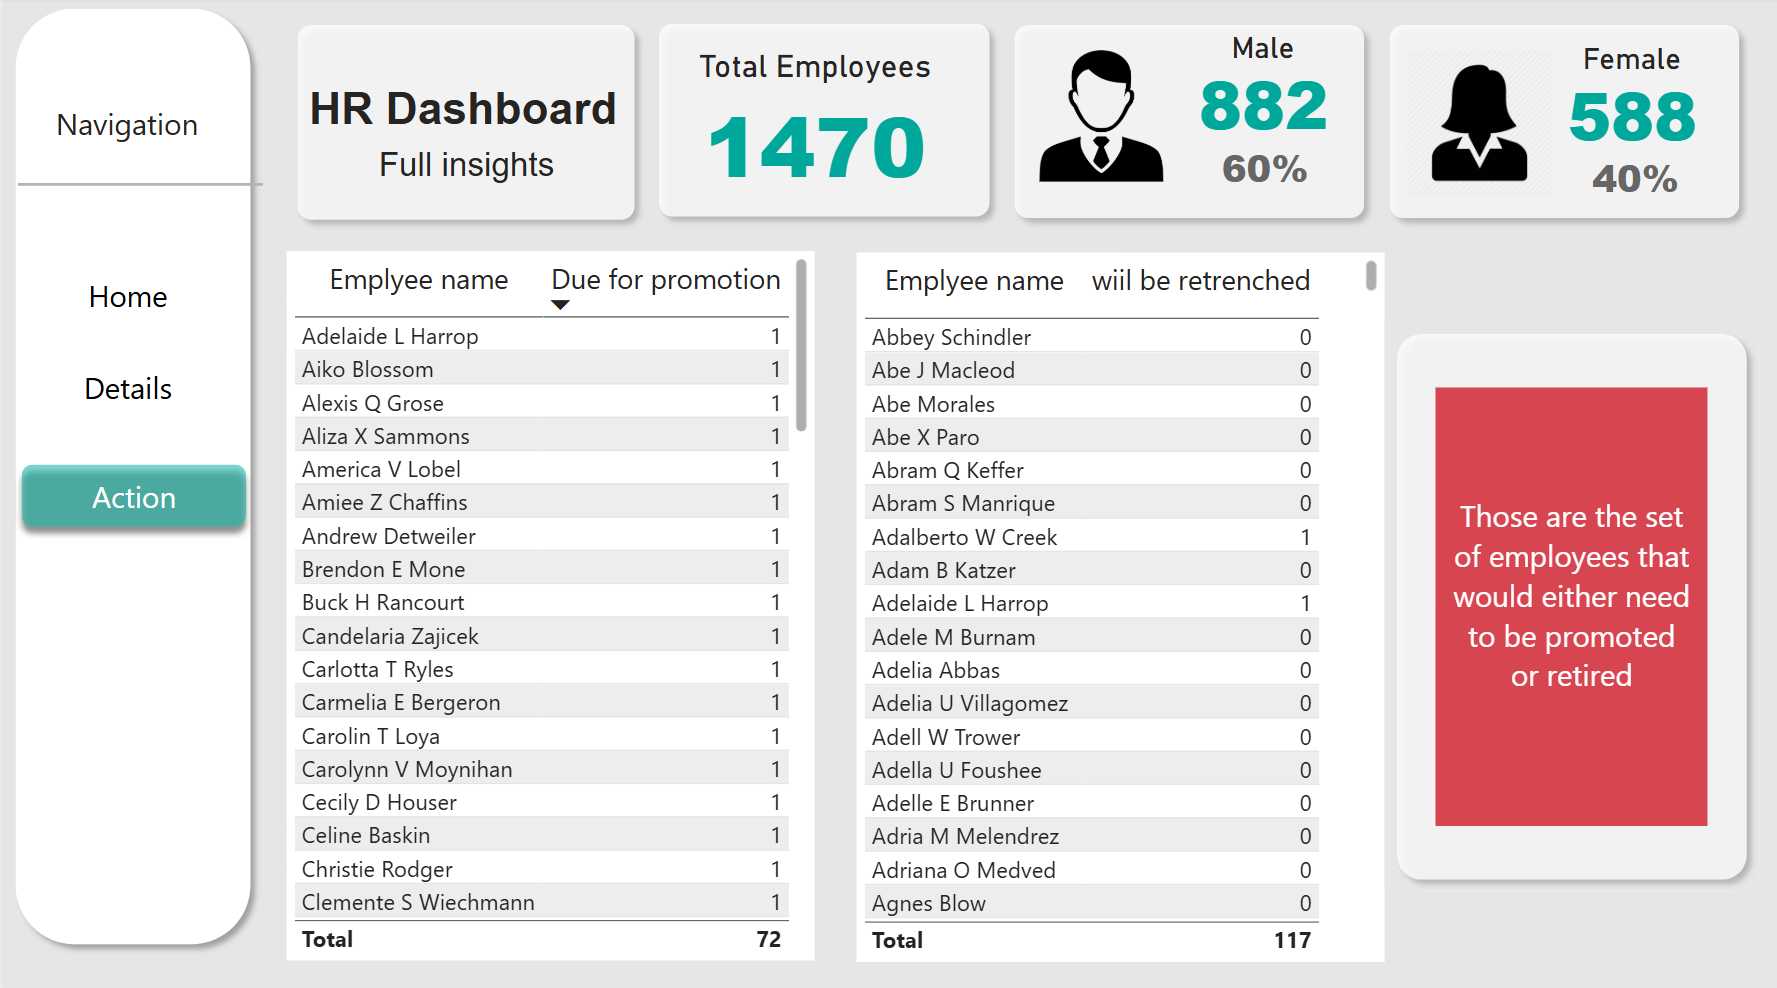

What the dashboard file says about the page in this screenshot:
{"tool":"powerbi","page":{"name":"Action","canvas":[1280,720],"ordinal":2},"visuals":[{"type":"shape","box":[0,0,187.3,692.4],"z":0},{"type":"shape","box":[203,12.1,261,158.3],"z":1000},{"type":"shape","box":[464,10.9,256.2,157.1],"z":2000},{"type":"shape","box":[720,11.4,270,157.1],"z":3000},{"type":"shape","box":[990,11.4,270,157.1],"z":4000},{"type":"textbox","box":[203,56.8,257.4,54.4],"z":5000},{"type":"textbox","box":[205.4,102.7,257.4,41.1],"z":6000},{"type":"card","title":"Total Employees","fields":{"Values":["All measures.Total Emp"]},"box":[463.5,36.5,243,108.1],"z":7000},{"type":"card","title":"Male","fields":{"Values":["All measures.male"]},"box":[839.9,25.3,136.2,78.7],"z":8000},{"type":"card","title":"Male","fields":{"Values":["All measures.% male"]},"box":[841.3,103.9,136.2,40.7],"z":9000},{"type":"card","title":"Female","fields":{"Values":["All measures.Female"]},"box":[1106.5,32.5,136.2,78.7],"z":10000},{"type":"card","title":"Male","fields":{"Values":["All measures.% female"]},"box":[1107.9,111.1,136.2,40.7],"z":11000},{"type":"image","box":[741.6,32.3,99.7,108.1],"z":12000},{"type":"image","box":[1002.8,32.3,122.2,118],"z":13000},{"type":"tableEx","fields":{"Values":["HR employee data.Emplyee name","All measures.Due for promotion"]},"box":[204.2,183.7,380.6,511.1],"z":14000},{"type":"tableEx","fields":{"Values":["HR employee data.Emplyee name","All measures.wiil be retrenched"]},"box":[615,184.9,380.6,511.1],"z":15000},{"type":"shape","box":[995.8,234.6,270,411.2],"z":16000},{"type":"textbox","box":[1032.1,282.1,196.2,316.2],"z":17000},{"type":"shape","box":[10.9,129.3,176.4,12.1],"z":18000},{"type":"textbox","box":[16.2,71.2,146.2,52.5],"z":19000},{"type":"actionButton","box":[0,183.7,180,62.8],"z":20000},{"type":"actionButton","box":[4.8,328.7,180,62.8],"z":21000},{"type":"actionButton","box":[0,250.1,180,62.8],"z":22000}]}

Visuals, with their boxes in screenshot pixels (x1, y1, x2, y2), scaled from the page's 1280x720 canvas onto the 1777x988 screenshot:
shape: <box>0,0,260,950</box>
shape: <box>282,17,644,234</box>
shape: <box>644,15,1000,231</box>
shape: <box>1000,16,1374,231</box>
shape: <box>1374,16,1749,231</box>
textbox: <box>282,78,639,153</box>
textbox: <box>285,141,642,197</box>
"Total Employees" card: <box>643,50,981,198</box>
"Male" card: <box>1166,35,1355,143</box>
"Male" card: <box>1168,143,1357,198</box>
"Female" card: <box>1536,45,1725,153</box>
"Male" card: <box>1538,152,1727,208</box>
image: <box>1030,44,1168,193</box>
image: <box>1392,44,1562,206</box>
tableEx - HR employee data.Emplyee name x All measures.Due for promotion: <box>283,252,812,953</box>
tableEx - HR employee data.Emplyee name x All measures.wiil be retrenched: <box>854,254,1382,955</box>
shape: <box>1382,322,1757,886</box>
textbox: <box>1433,387,1705,821</box>
shape: <box>15,177,260,194</box>
textbox: <box>22,98,225,170</box>
actionButton: <box>0,252,250,338</box>
actionButton: <box>7,451,257,537</box>
actionButton: <box>0,343,250,429</box>
